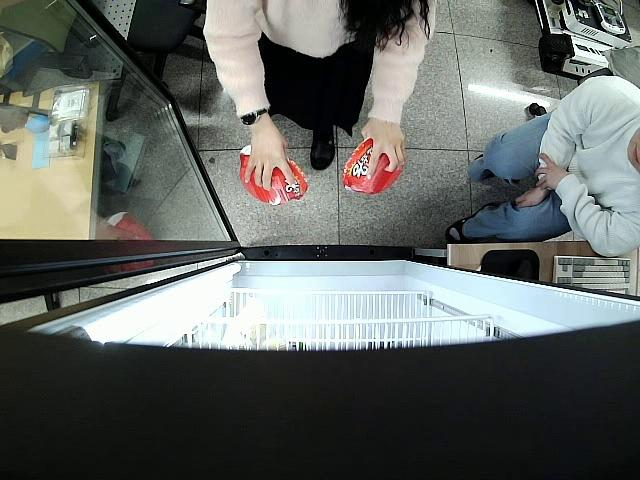00_hand: (243, 123, 298, 192), (359, 118, 407, 181)
10_wangTtukkeong: (239, 145, 308, 206), (343, 137, 402, 195)
